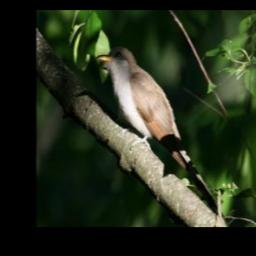Cuckoo: (96, 46, 224, 218)
